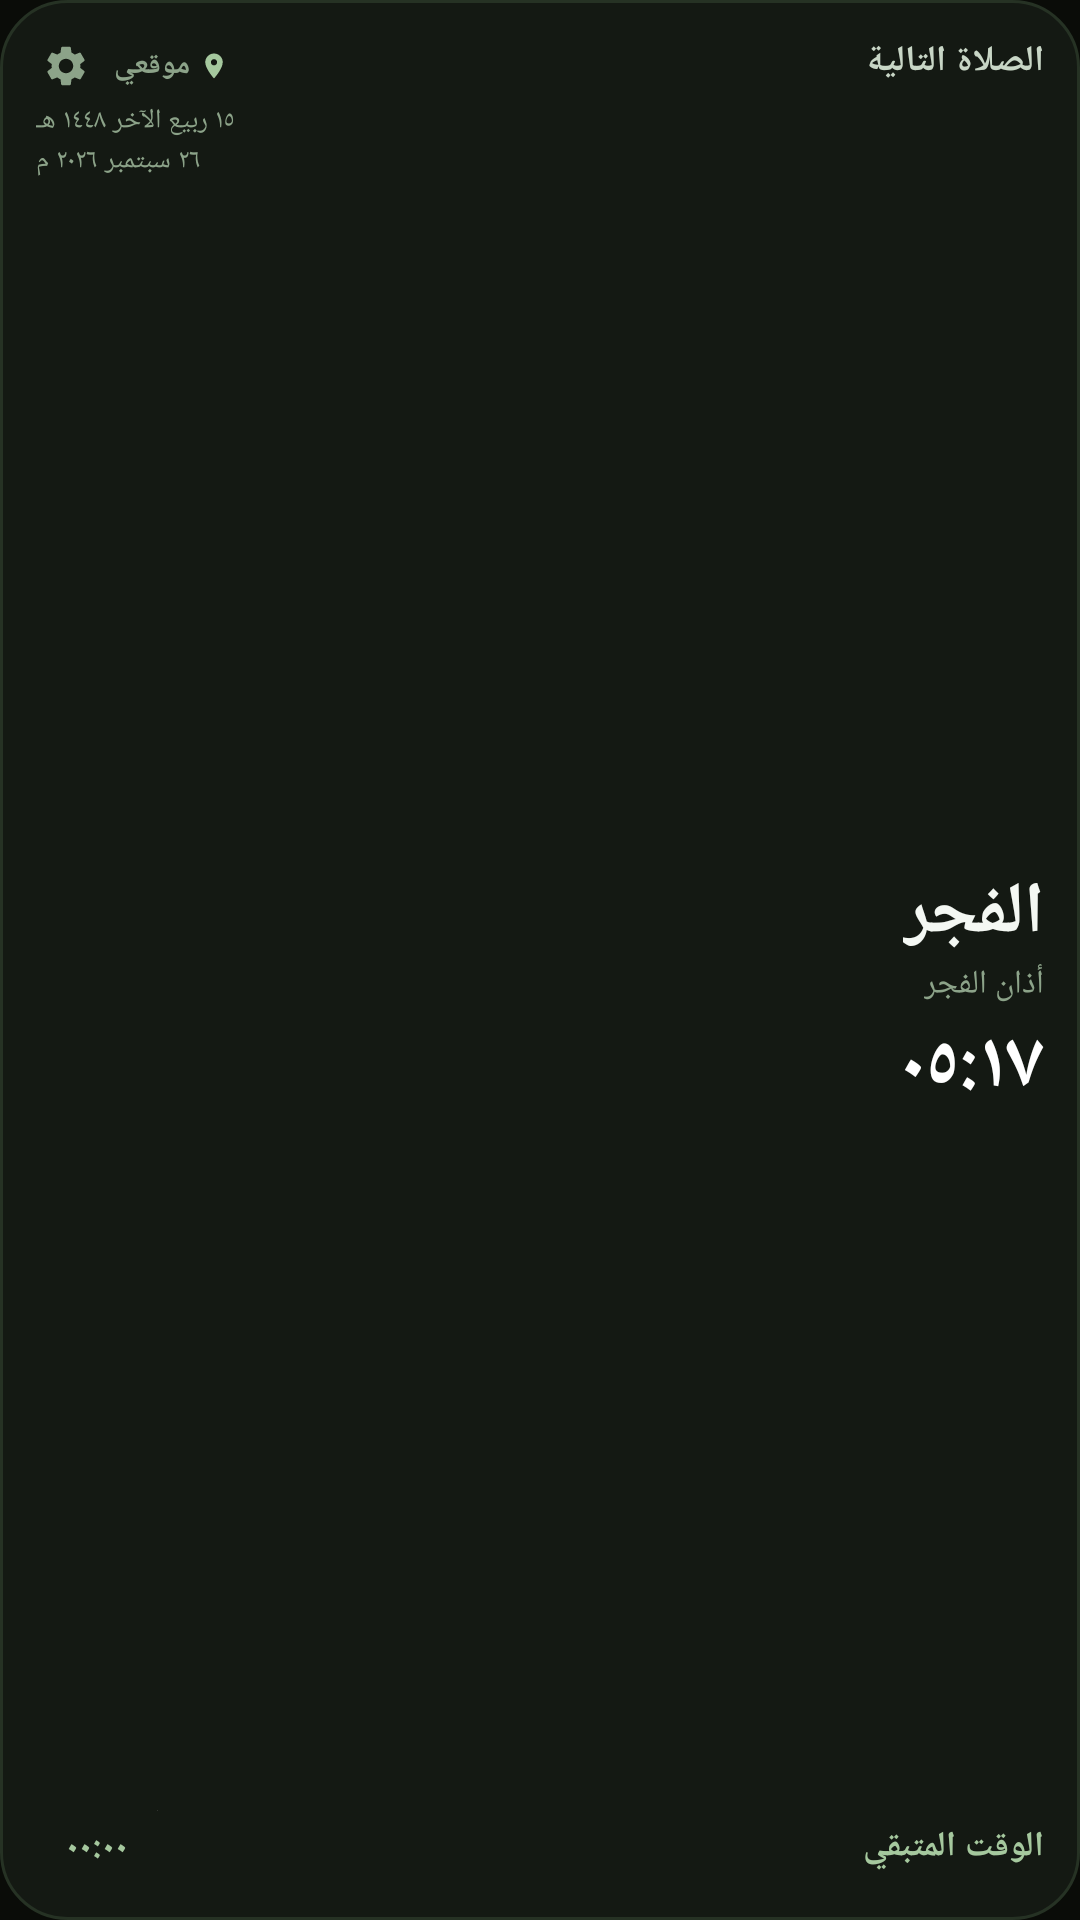

Icons on this 1080px×1920px Android screen, each with its box as (x1, y1, x2, y2):
location pin: (205, 53, 223, 78)
widget settings: (47, 46, 85, 86)
